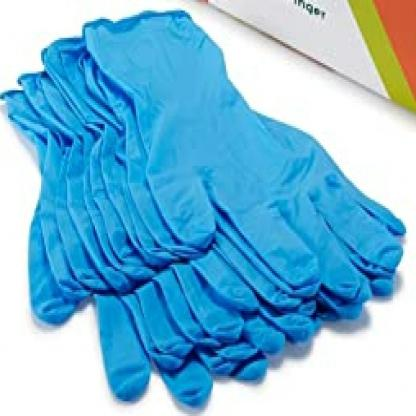with_gloves: (5, 14, 405, 406)
